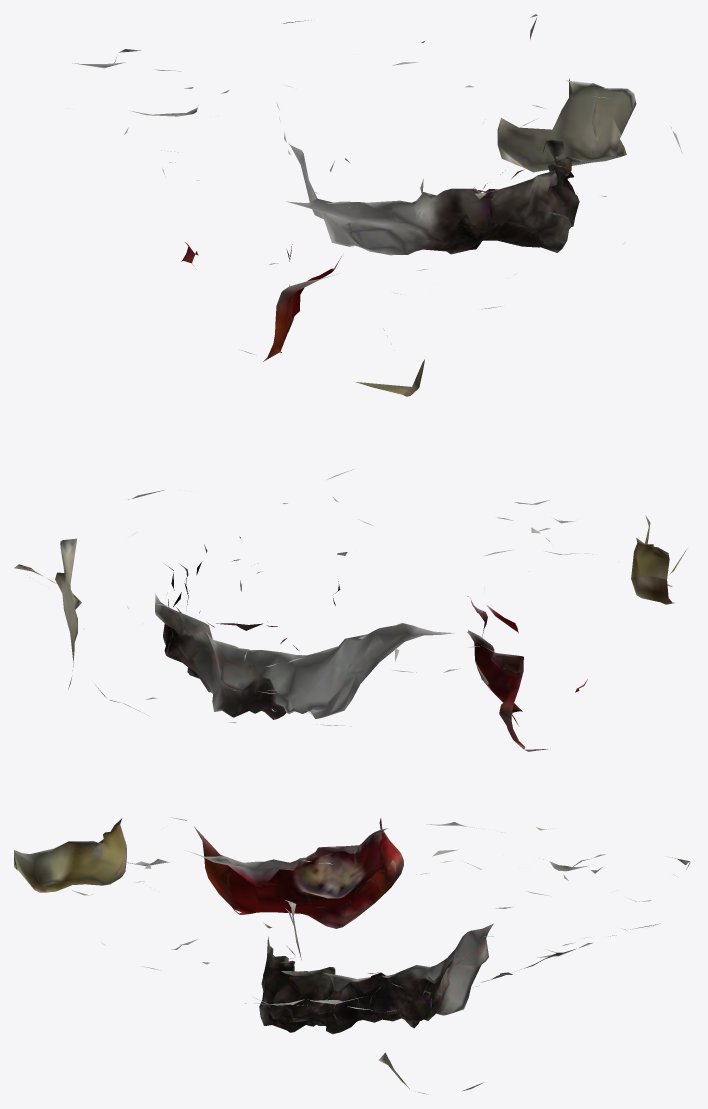
File: hall.glb
The picture shows the model from 3 angles, top to bottom: view 1: azimuth 30°, elevation 25°; view 2: azimuth 150°, elevation 25°; view 3: azimuth 270°, elevation 25°; orthographic projection. The views are drawn at different scales.
Size of the model in its own units: 2.88 by 0.9002 by 3.99.
1 material, 1 textured.
